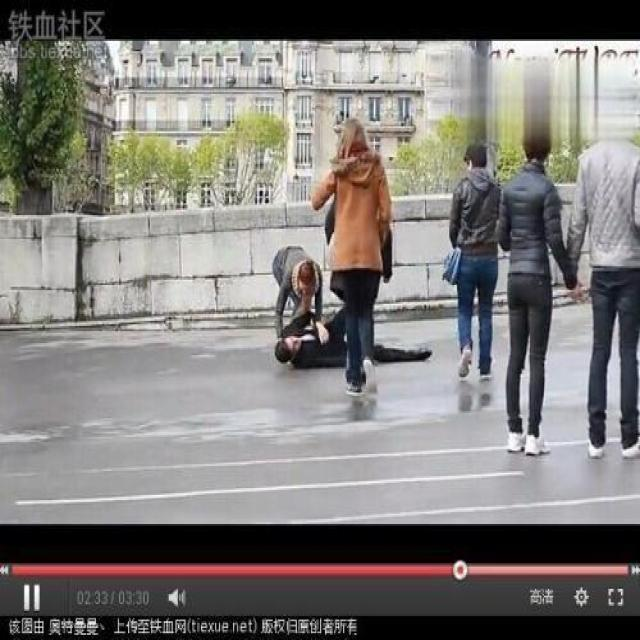fall: (274, 312, 431, 366)
nonfall: (565, 128, 640, 458), (312, 119, 390, 400), (501, 133, 563, 456), (449, 144, 502, 378), (274, 247, 323, 327)
